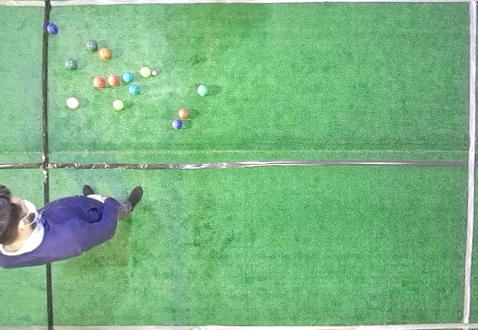blue: (45, 23, 58, 35), (172, 120, 182, 129)
green: (197, 85, 209, 96), (86, 40, 97, 51), (123, 72, 134, 83), (129, 84, 140, 95), (65, 59, 76, 69)
red: (98, 48, 112, 61), (93, 77, 106, 89), (66, 97, 79, 109), (108, 75, 120, 86), (178, 108, 189, 119)
vline: (1, 1, 50, 200), (461, 1, 477, 329), (1, 260, 54, 329)
white: (152, 71, 156, 75)
yellow: (140, 67, 151, 78), (113, 100, 124, 110)
